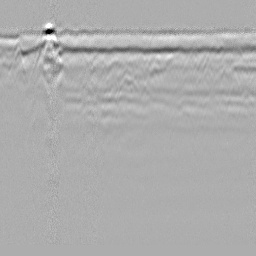cavity: (119, 70, 138, 93)
